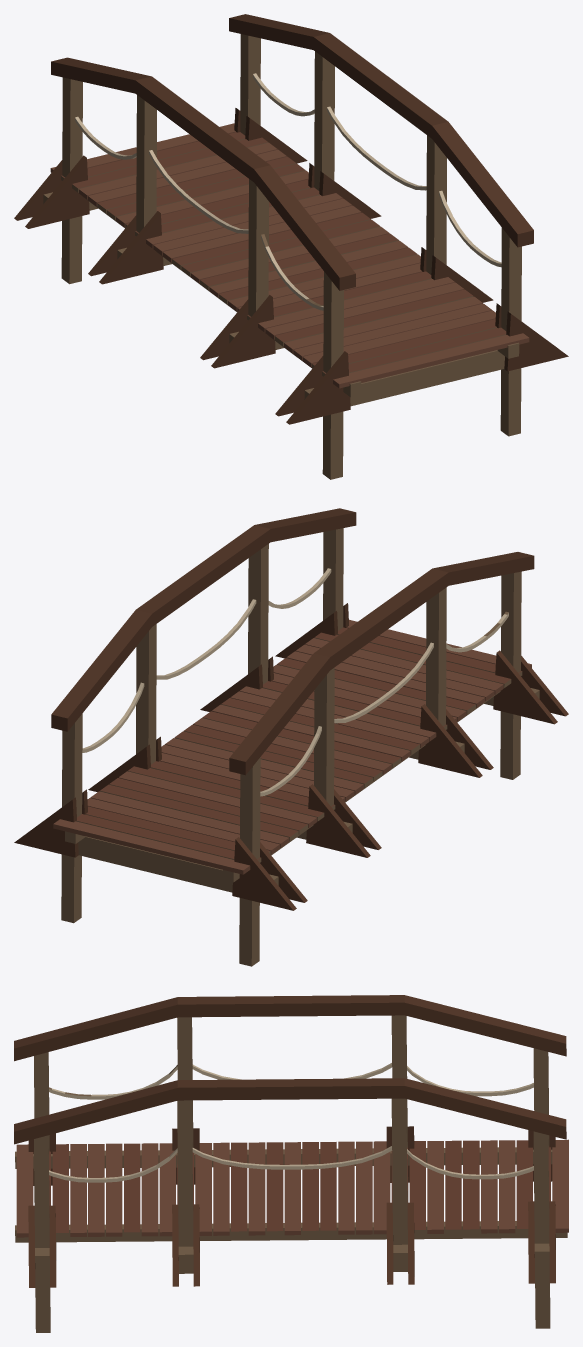
File: bridge.fbx
The picture shows the model from 3 angles, top to bottom: view 1: azimuth 30°, elevation 25°; view 2: azimuth 150°, elevation 25°; view 3: azimuth 270°, elevation 25°; orthographic projection. The views are drawn at different scales.
Parts seen in each view (by area): view 1: Cube.011; view 2: Cube.011; view 3: Cube.011.
Boxes of the visible parts, <box> form: Cube.011: <box>14,14,568,479</box>; Cube.011: <box>14,508,568,966</box>; Cube.011: <box>14,995,568,1332</box>.
Size of the model in its own units: 673 by 596 by 1209.
